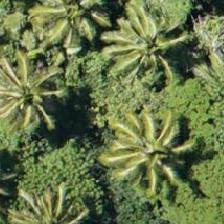coconut_tree: (86, 106, 176, 196), (106, 0, 196, 86), (0, 50, 67, 140), (37, 0, 127, 45)
